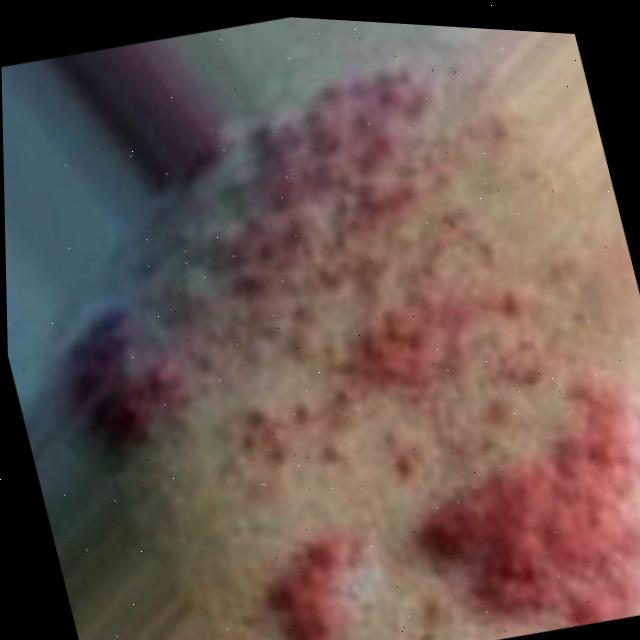Shingles: (60, 24, 577, 470), (395, 404, 640, 640), (250, 516, 396, 640)
